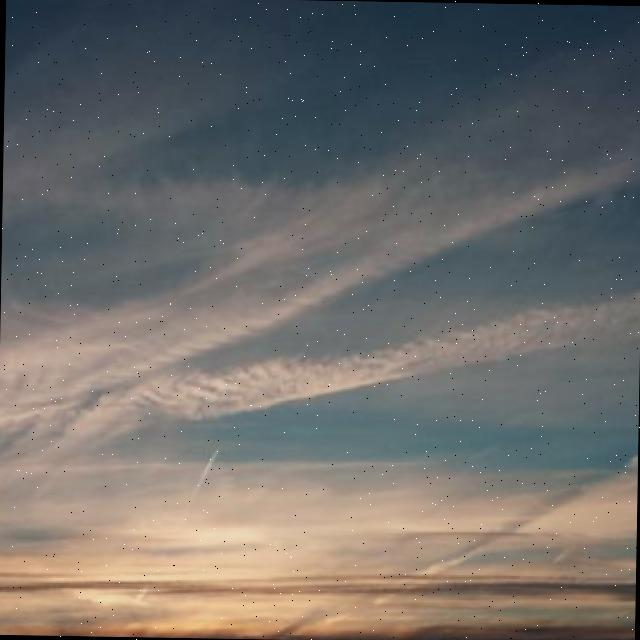Ct: (1, 27, 640, 547)
